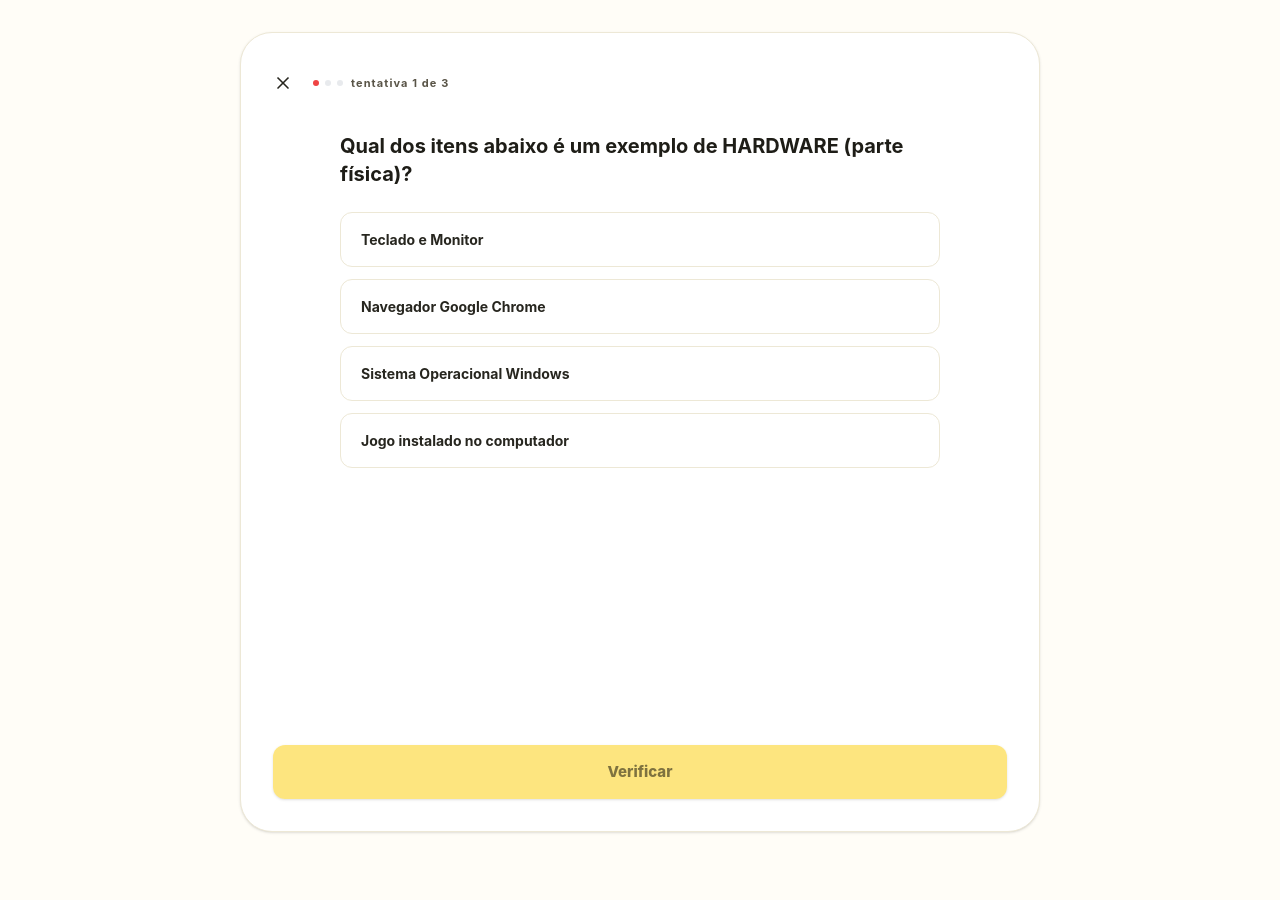
Scenario: Fase 2 - Implementação Visual Completa da Jornada do Aluno › 12. LessonSummary exibe XP ganho e acertos e NÃO exibe tempo de conclusão
Answer question 1
Click the button "Teclado e Monitor" at coordinates (422, 240), box top-left (340, 212), bottom-right (940, 267)
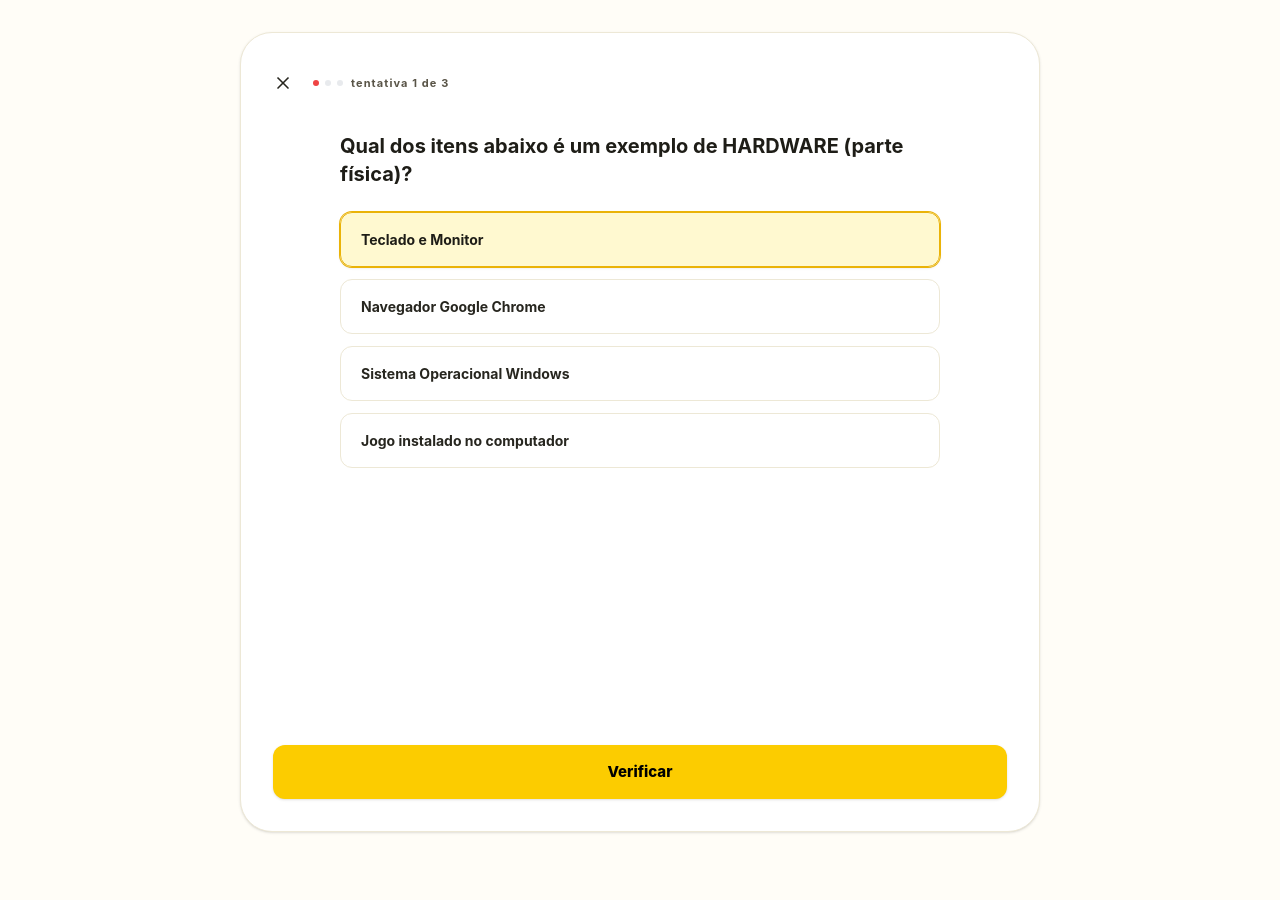
Click the button "Verificar" at coordinates (640, 772), box top-left (273, 744), bottom-right (1007, 799)
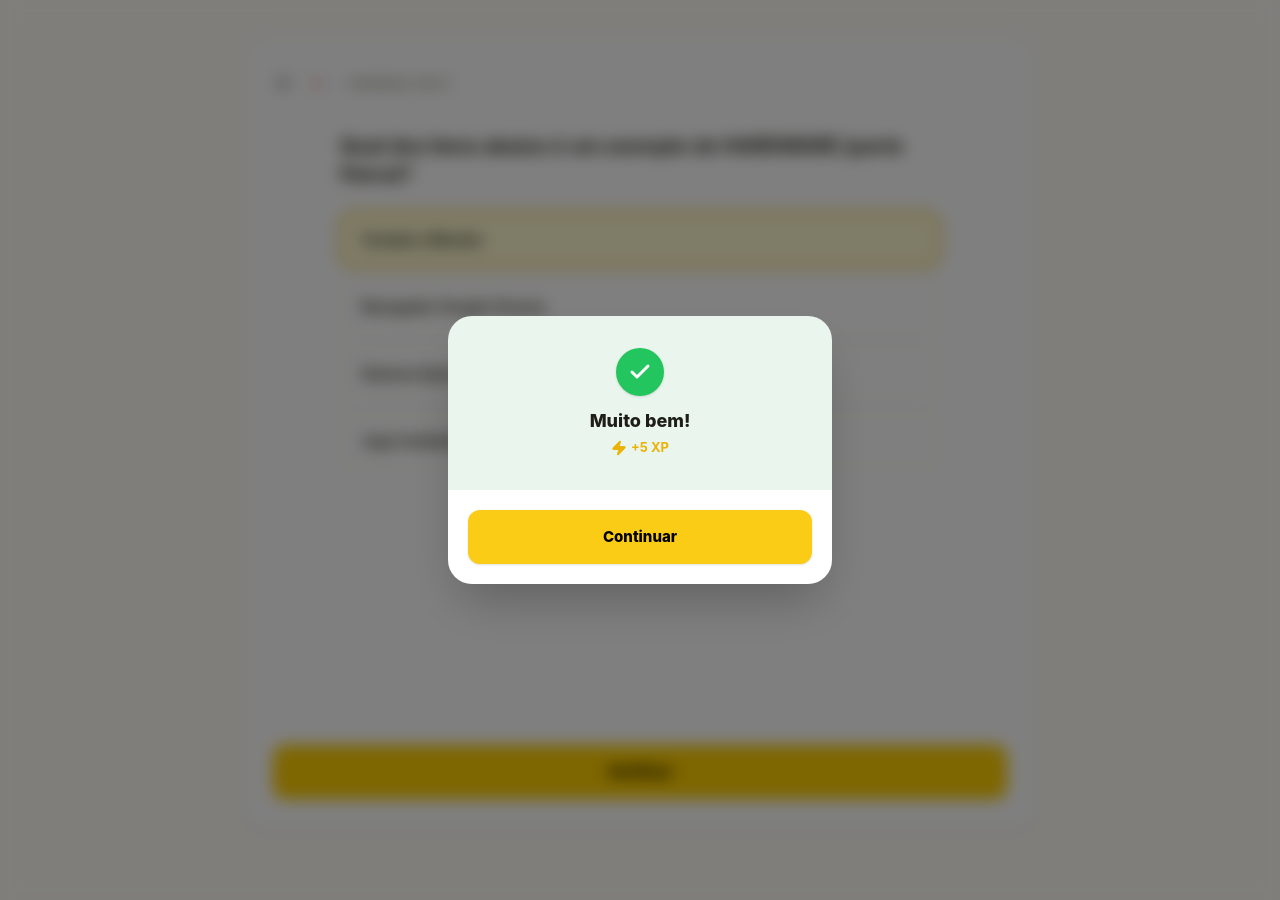
Click the button "Continuar" at coordinates (640, 537), box top-left (468, 510), bottom-right (812, 564)
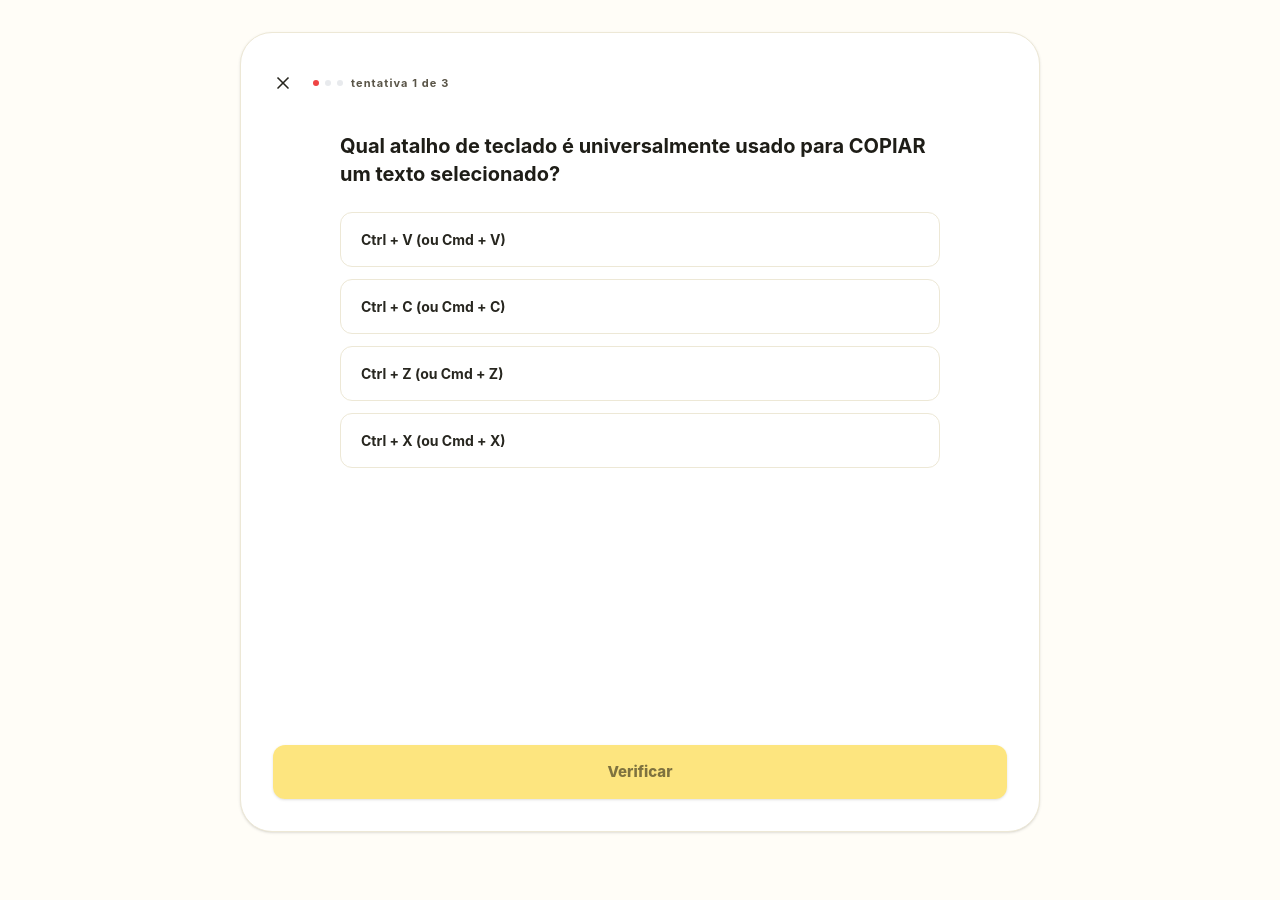
Answer question 2
Click the button "Ctrl + C (ou Cmd + C)" at coordinates (433, 306), box top-left (340, 279), bottom-right (940, 334)
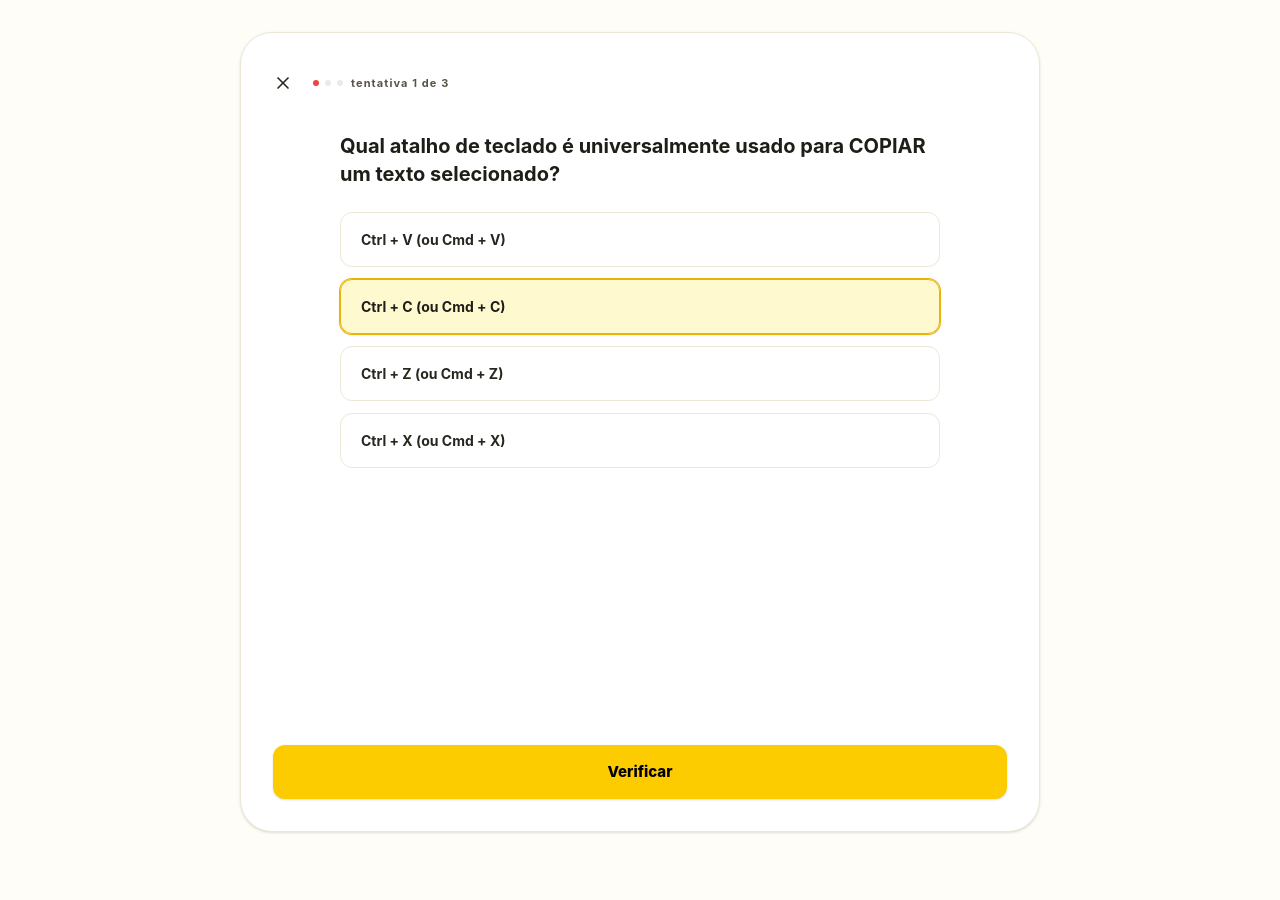
Click the button "Verificar" at coordinates (640, 772), box top-left (273, 744), bottom-right (1007, 799)
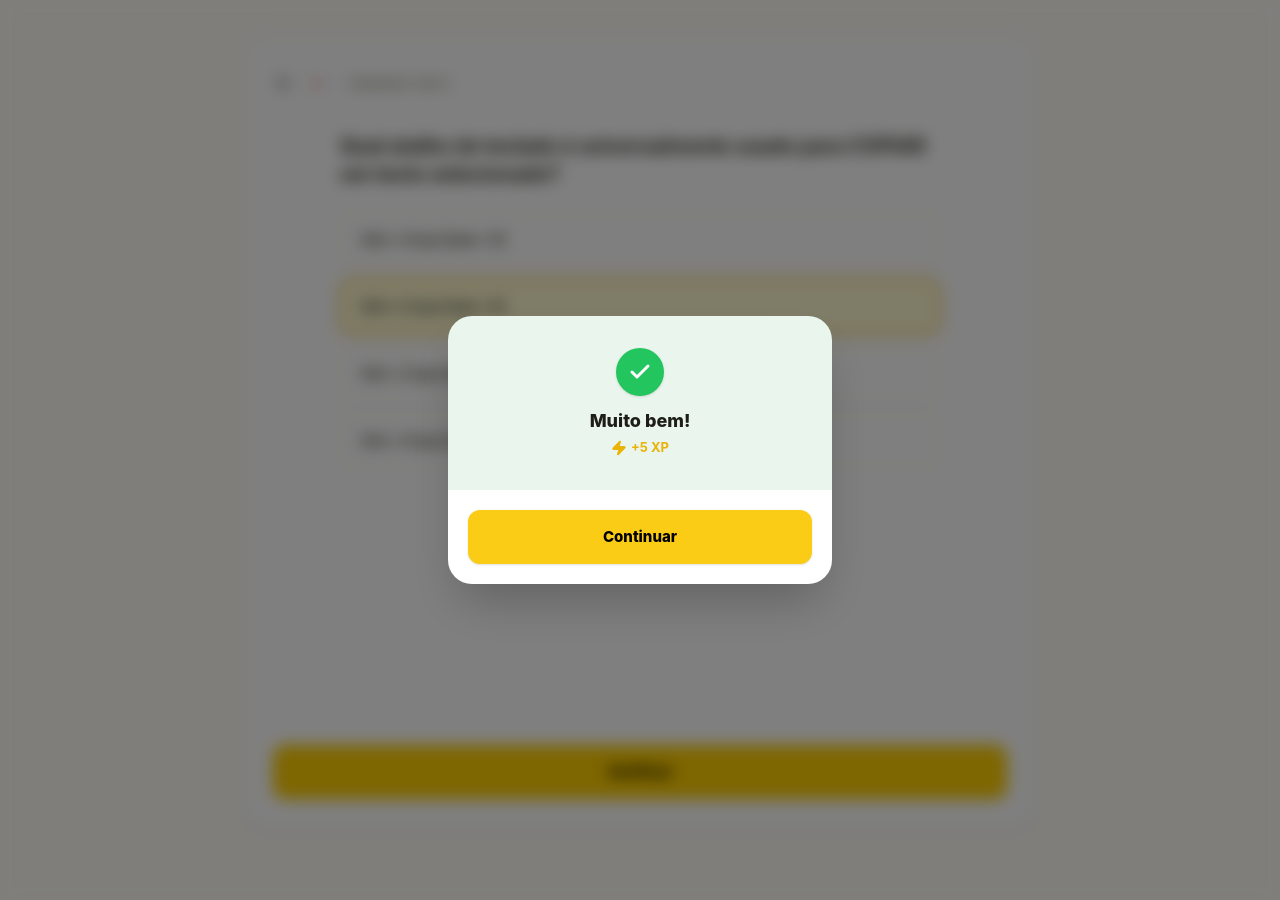
Click the button "Continuar" at coordinates (640, 537), box top-left (468, 510), bottom-right (812, 564)
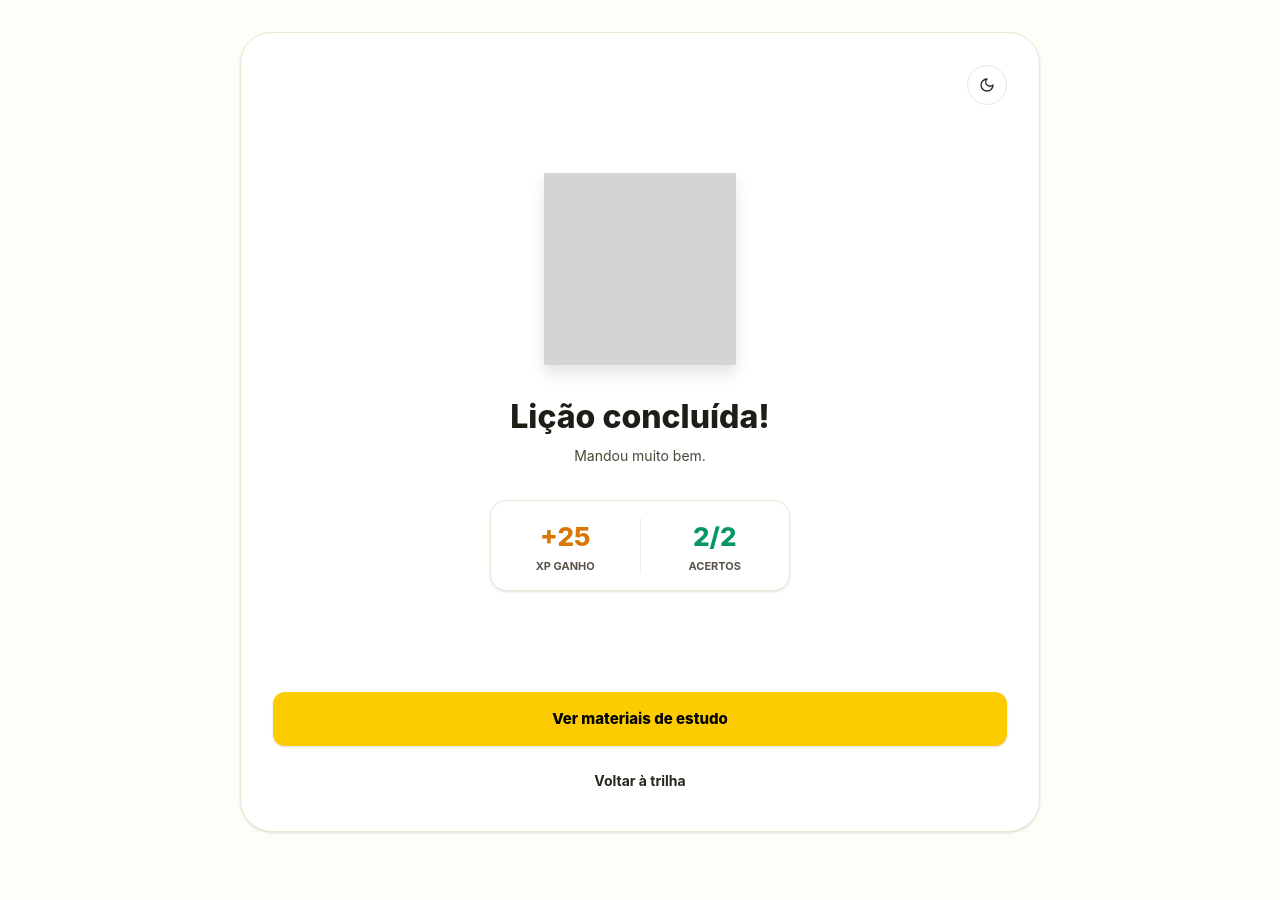
Result: the text "+25" is shown at top-left (540, 517), bottom-right (590, 556)
Result: the text "XP ganho" is shown at top-left (536, 558), bottom-right (595, 574)
Result: the text "2/2" is shown at top-left (693, 517), bottom-right (737, 556)
